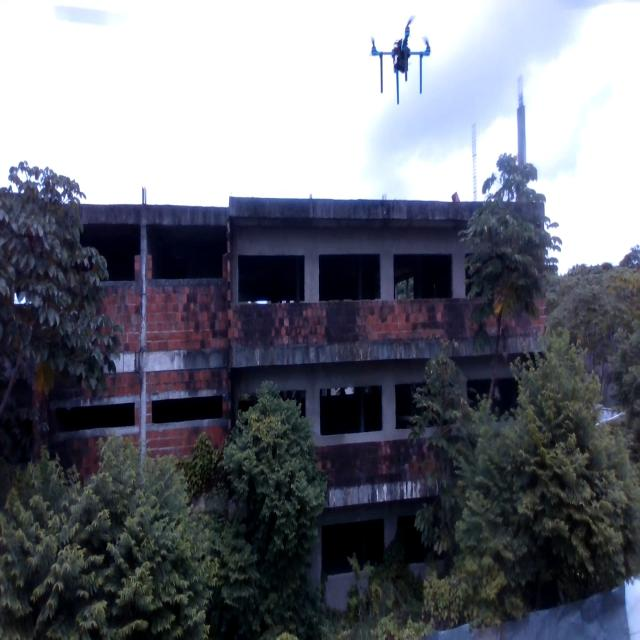-uav-: (369, 11, 440, 110)
